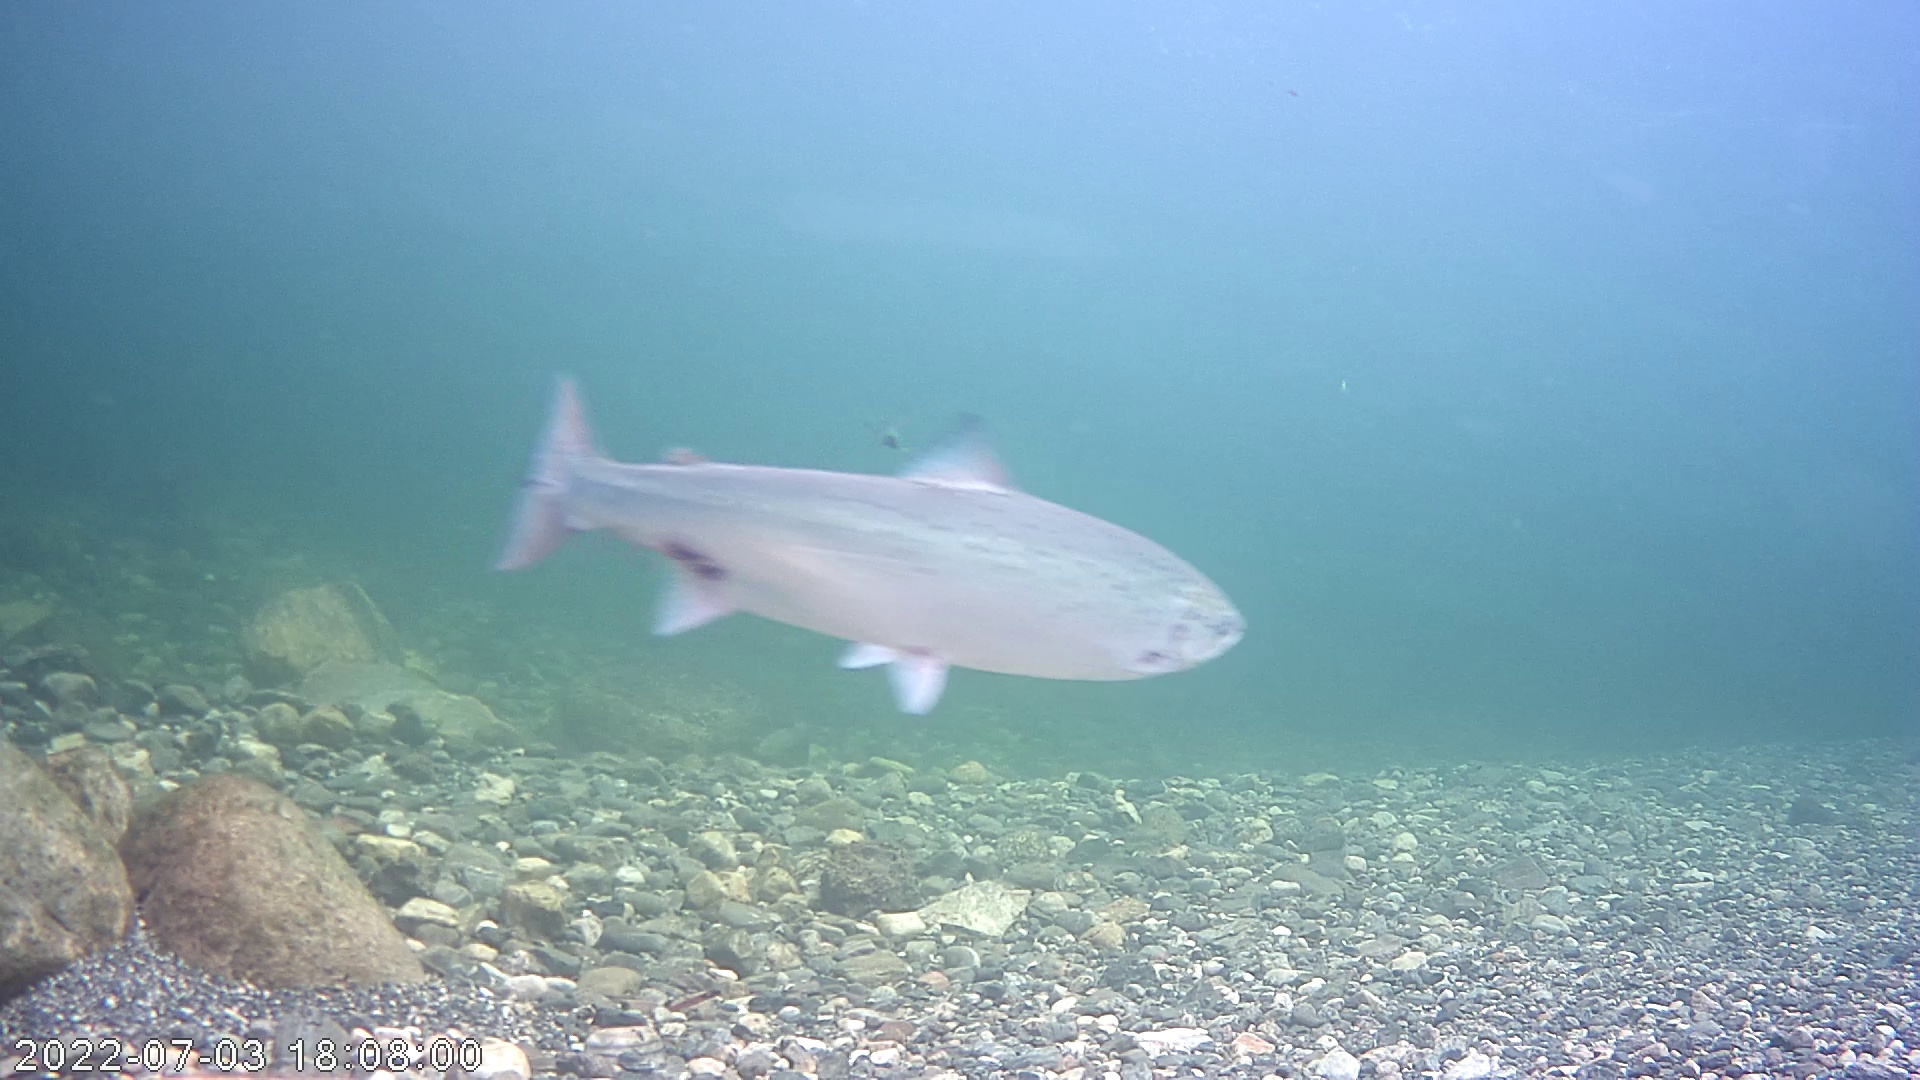salmon: (491, 367, 1250, 715)
